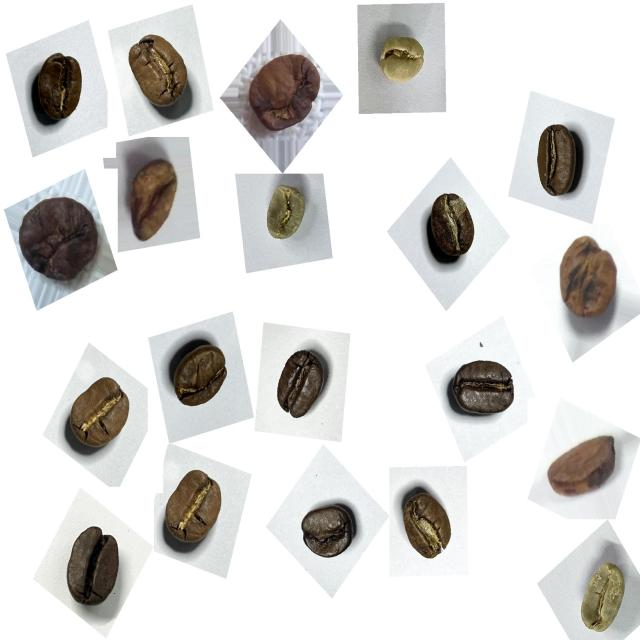bad: (13, 185, 106, 296), (545, 224, 628, 332), (241, 45, 329, 145), (538, 424, 624, 513), (120, 148, 189, 253)
dark: (54, 516, 132, 616), (442, 343, 524, 429), (266, 339, 338, 430), (290, 494, 363, 576)
green: (567, 555, 638, 640), (368, 26, 435, 100), (253, 176, 316, 252)
medium: (58, 368, 141, 465), (118, 25, 201, 122), (155, 462, 236, 560), (392, 481, 464, 575), (522, 116, 594, 209), (162, 332, 236, 422), (24, 45, 96, 134), (417, 184, 486, 269)
